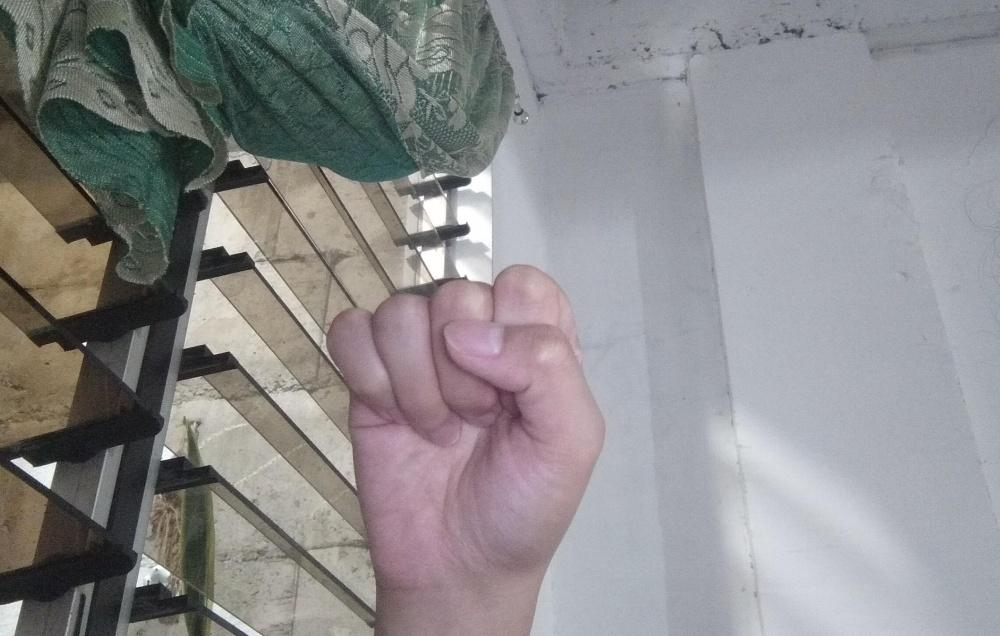s: (323, 260, 608, 597)
